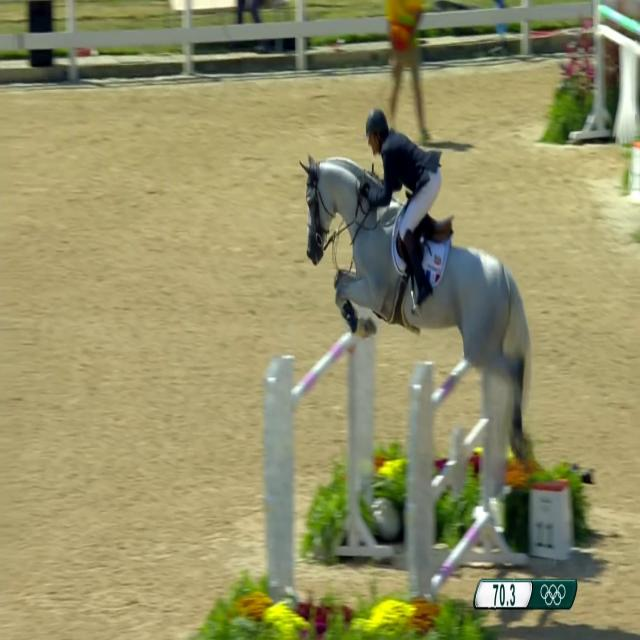Horse Jumping: (288, 100, 561, 514)
